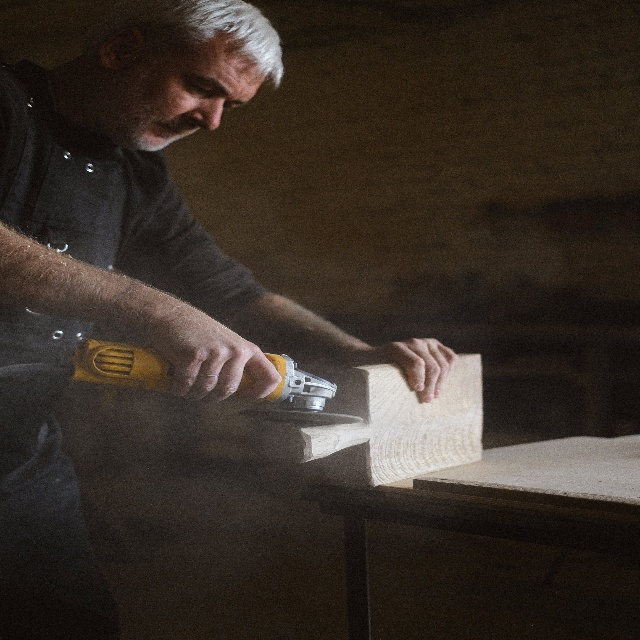Sin_guantes: (171, 324, 280, 406), (376, 339, 459, 403)
